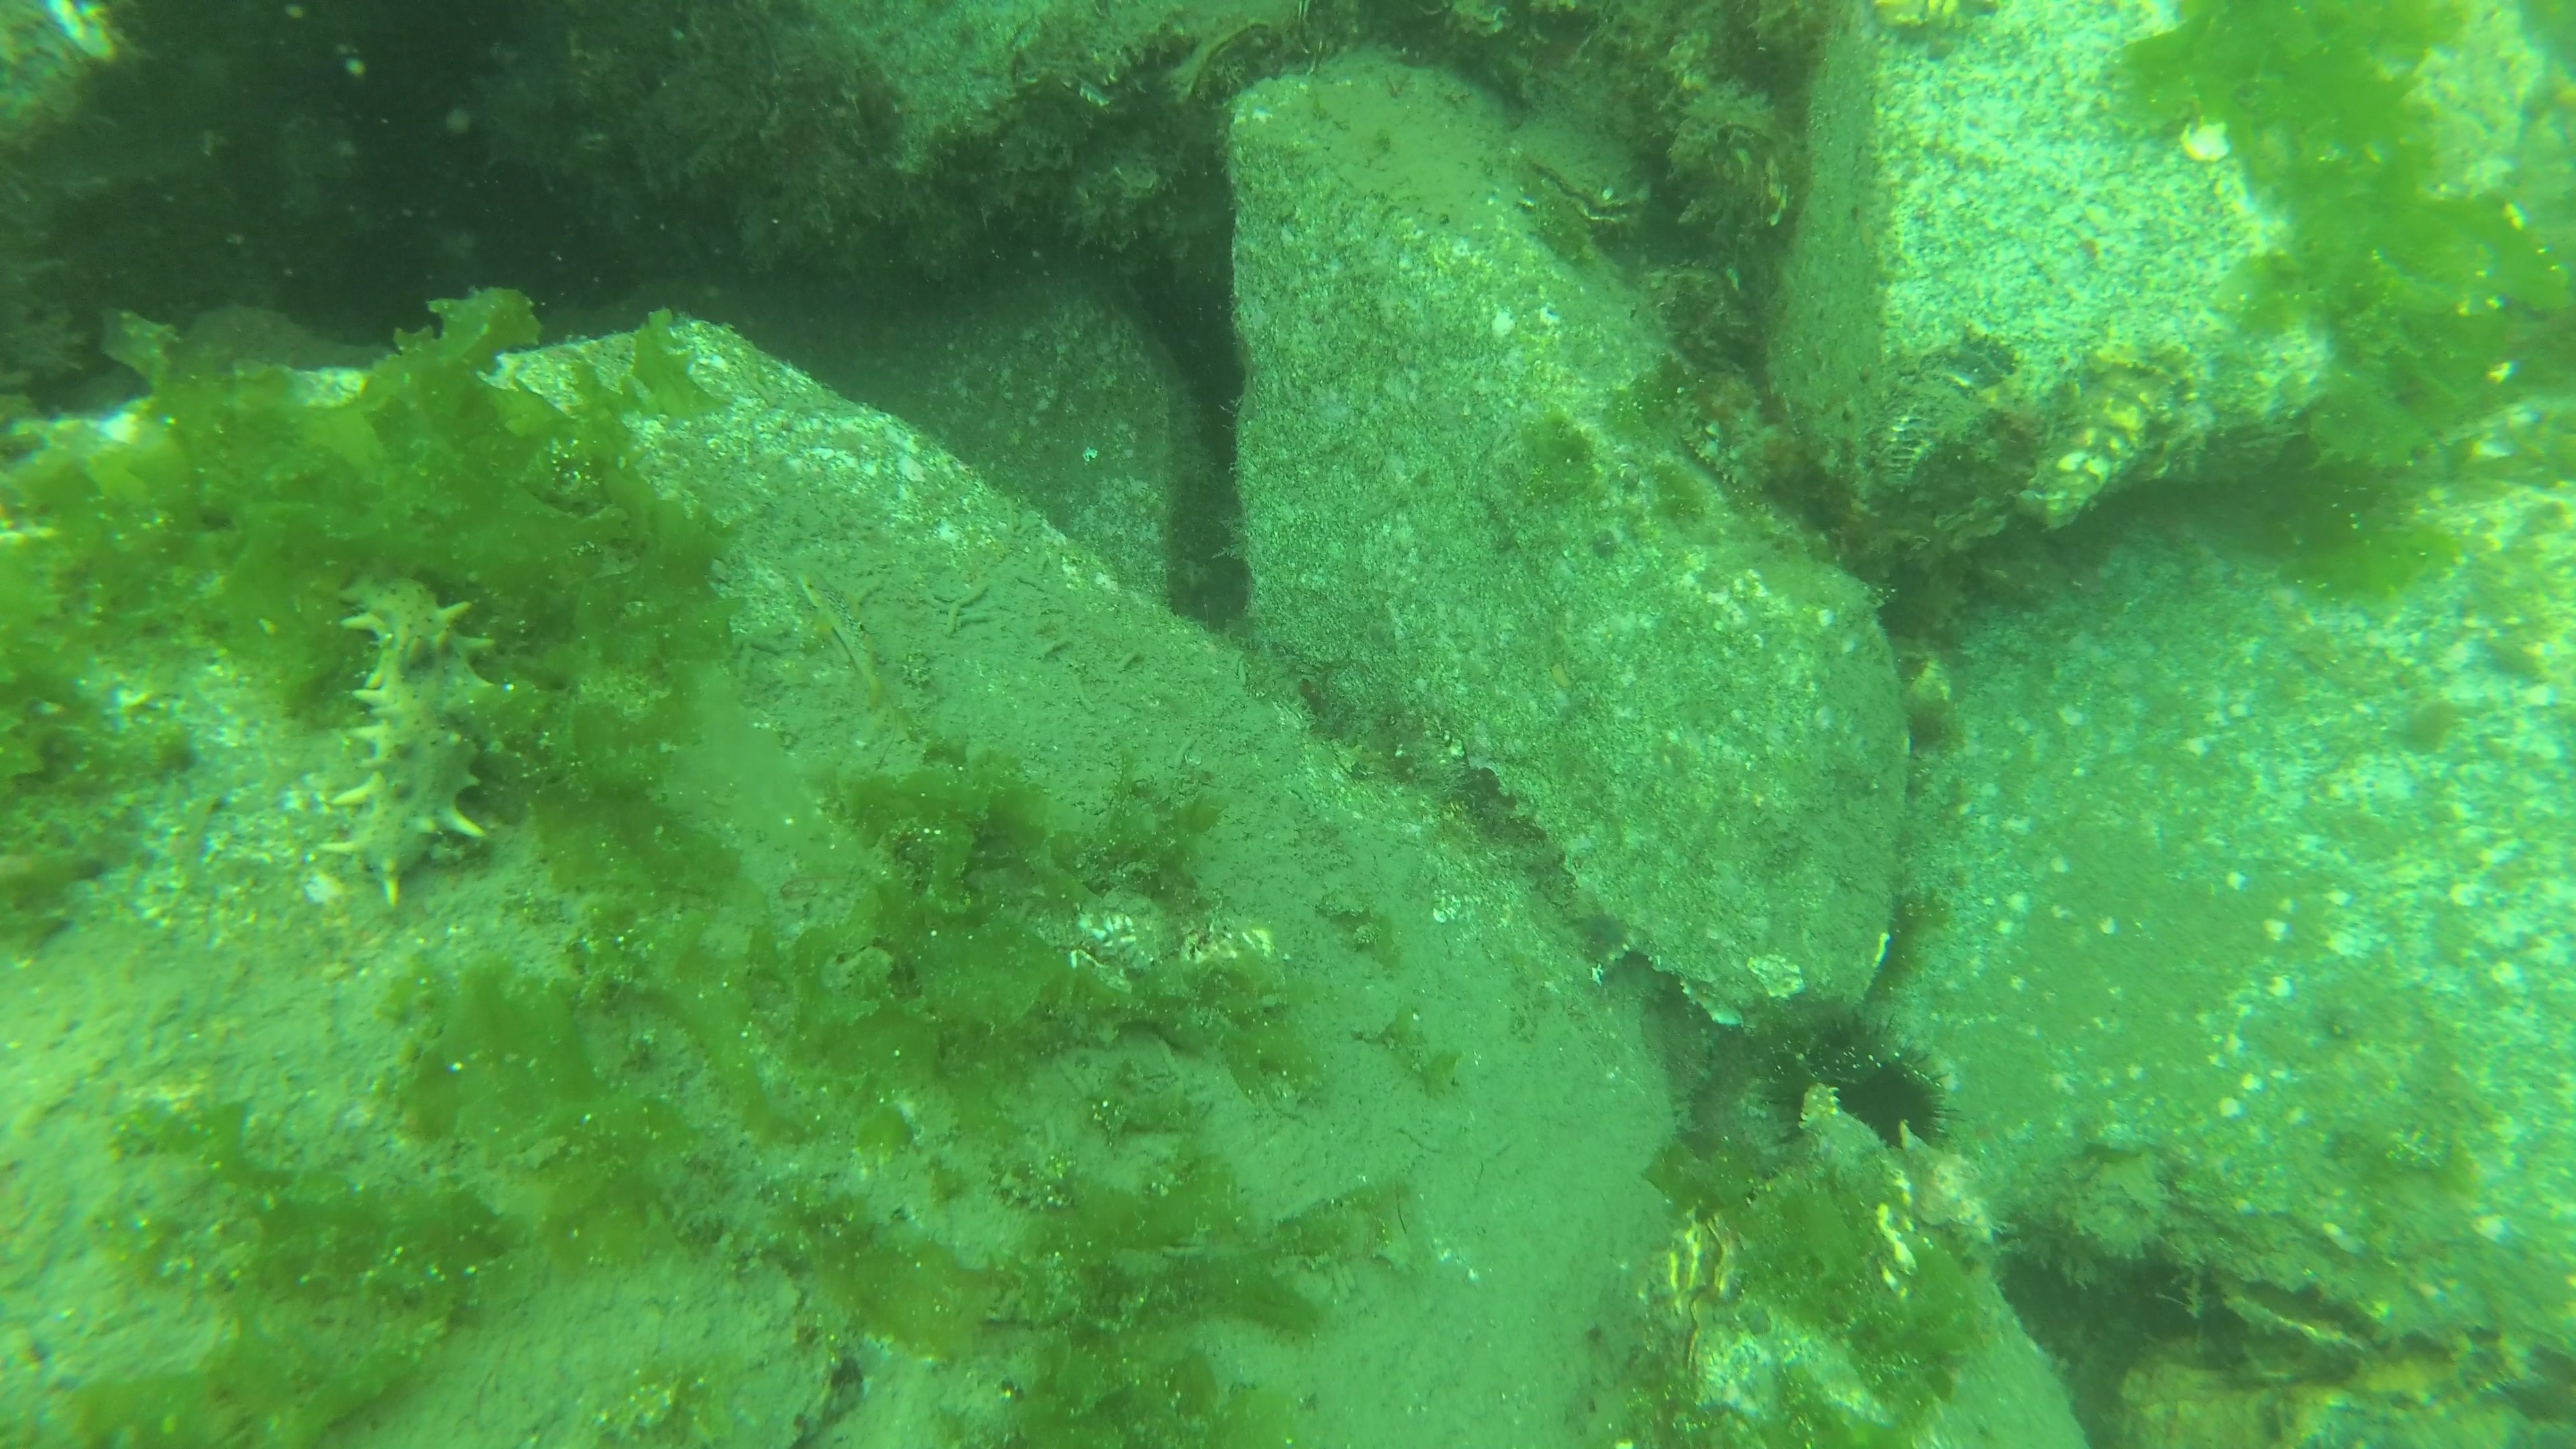echinus: (1757, 1016, 1964, 1154)
holothurian: (318, 563, 501, 913)
